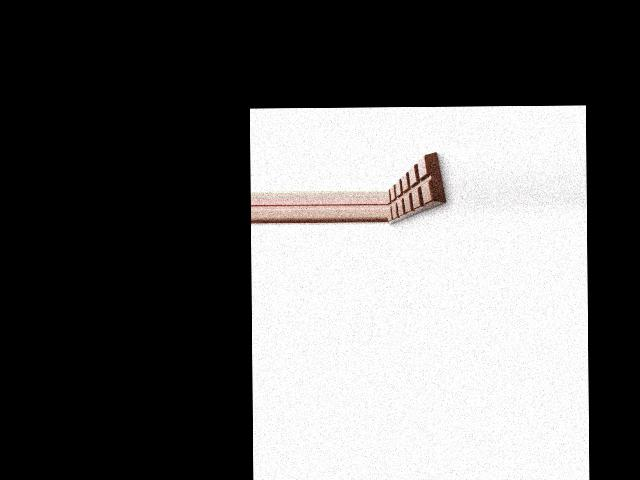chocolate: (388, 151, 448, 228)
